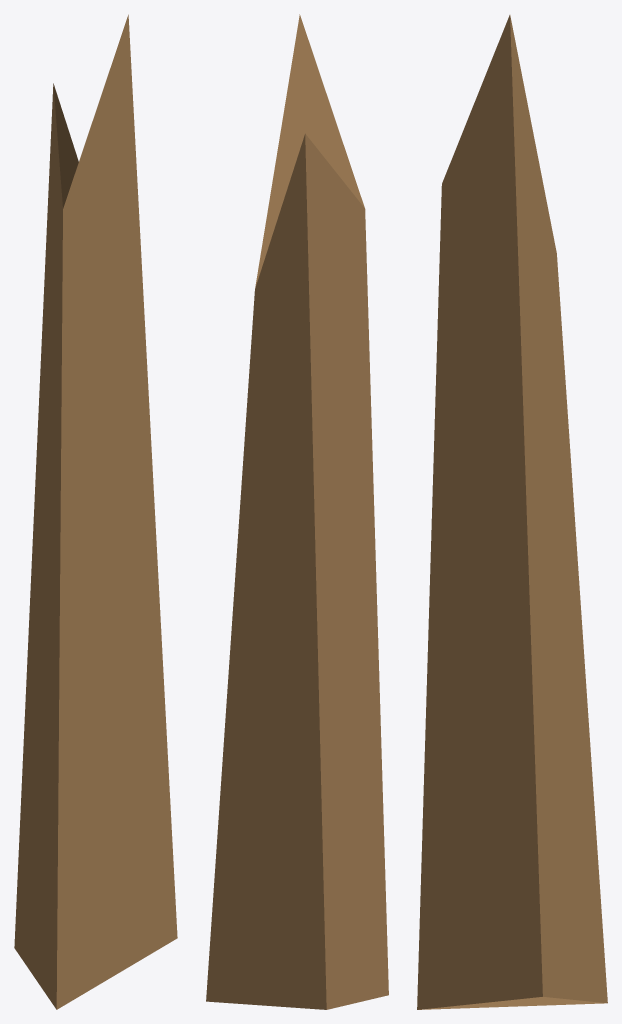
Rendered from SM_WoodSplinter_02.fbx.
3 views of the same model, side by side, from view 1: azimuth 30°, elevation 25°; view 2: azimuth 150°, elevation 25°; view 3: azimuth 330°, elevation 25° (orthographic). The views are drawn at different scales.
Visible parts, largest first — view 1: SM_WoodSplinter_02; view 2: SM_WoodSplinter_02; view 3: SM_WoodSplinter_02.
Boxes of the visible parts, left/top/right/bottom form: SM_WoodSplinter_02: left=14, top=14, right=177, bottom=1009; SM_WoodSplinter_02: left=206, top=14, right=388, bottom=1009; SM_WoodSplinter_02: left=417, top=15, right=607, bottom=1009.
Size of what is drawn, in the model's own units: 0.13 by 0.09 by 0.92.
